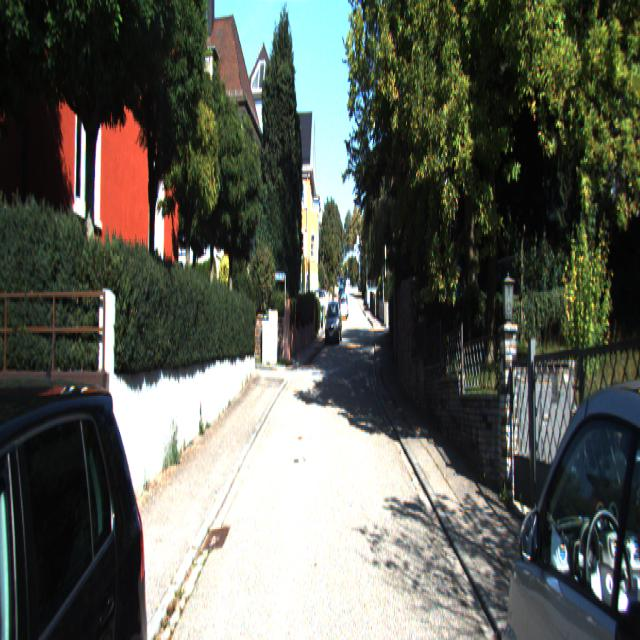Car: (0, 343, 166, 639), (488, 317, 640, 638), (324, 304, 343, 346)
